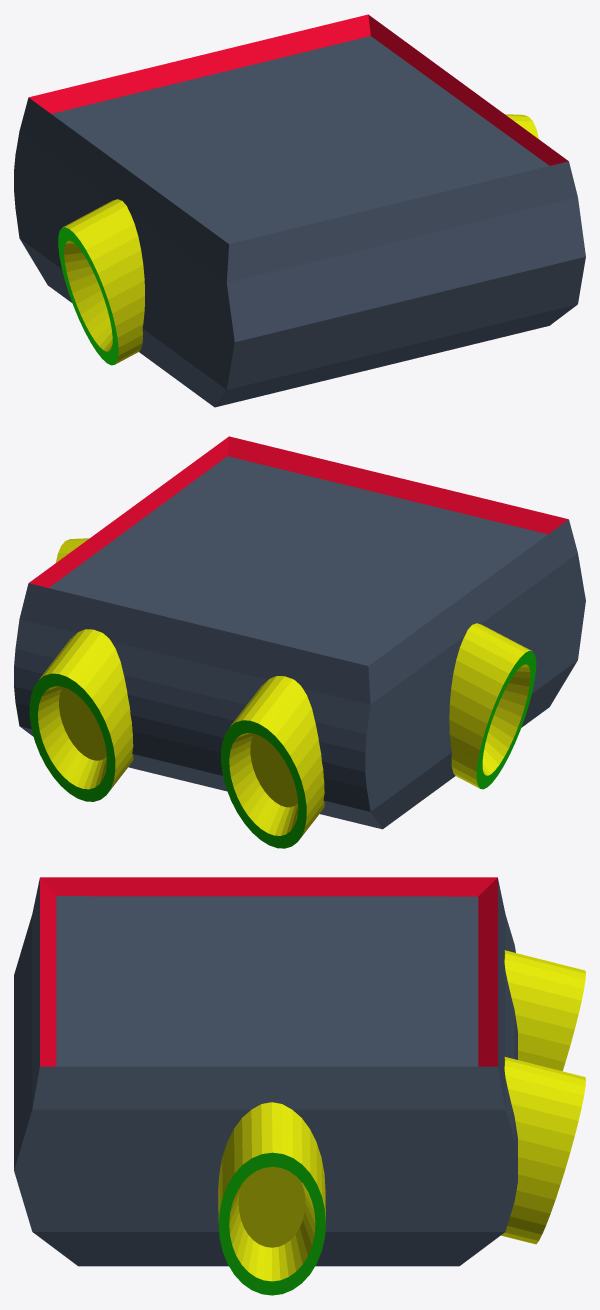
File: FloatPad_Rectangular.fbx
3 renders of one model, top to bottom at view 1: azimuth 30°, elevation 25°; view 2: azimuth 150°, elevation 25°; view 3: azimuth 270°, elevation 25°, orthographic. The views are drawn at different scales.
Parts seen in each view (by area): view 1: Pad, Thruster.003; view 2: Pad, Thruster.002, Thruster.001, Thruster.003; view 3: Pad, Thruster.004, Thruster.002, Thruster.001.
Boxes of the visible parts, x1,y1,x2,y2 form: Pad: (14,14,585,407); Thruster.003: (58,199,144,365); Pad: (14,436,585,829); Thruster.002: (29,629,133,801); Thruster.001: (221,676,324,848); Thruster.003: (449,623,536,789); Pad: (14,877,517,1266); Thruster.004: (218,1102,325,1295); Thruster.002: (501,1056,585,1244); Thruster.001: (504,950,585,1071).
Bounding box in the file's own units: 720 × 283 × 680.
